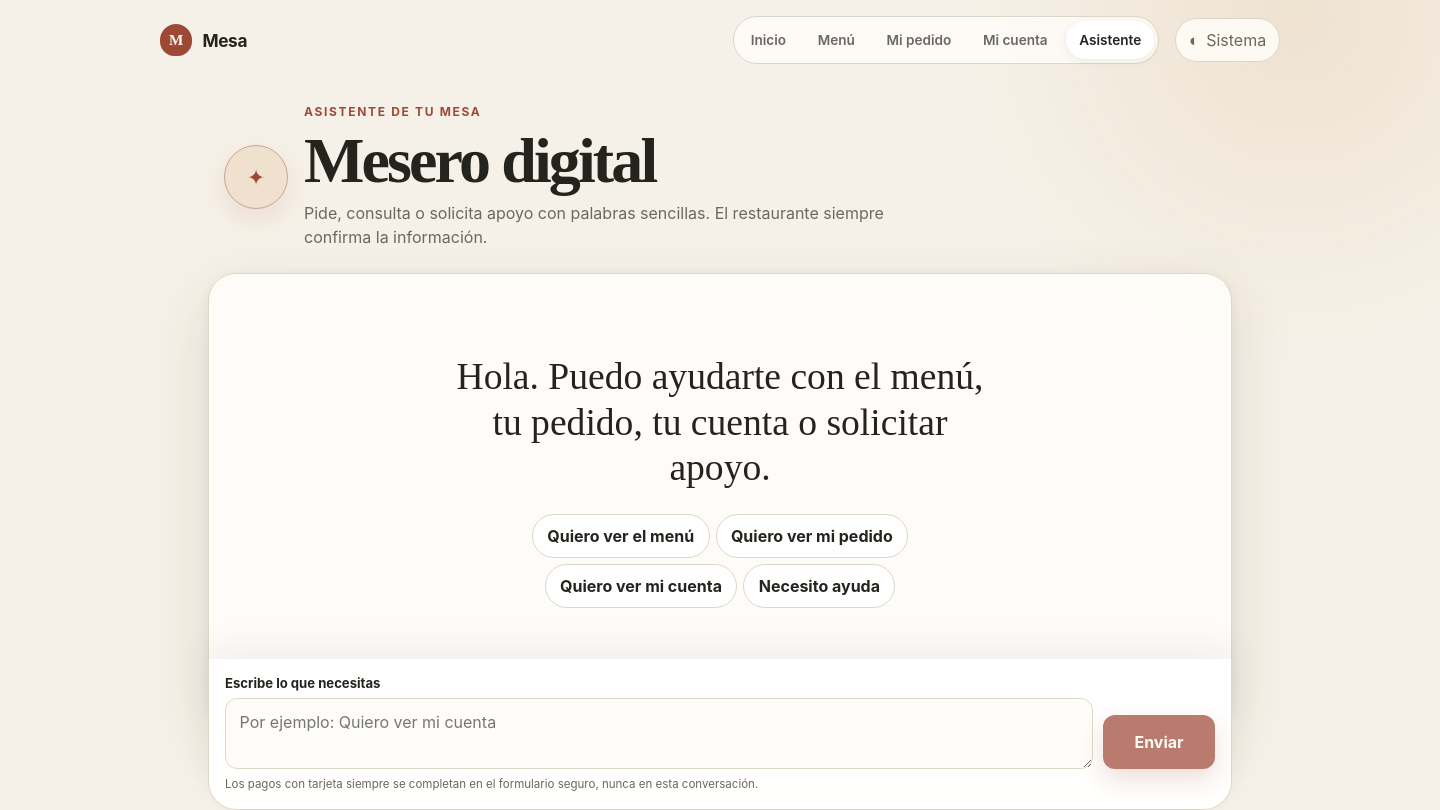
Test: Digital Waiter UI › submits natural language through C6A and renders an authoritative menu result
Check: the heading "Mesero digital" is shown, box [304,125,655,196]
Type "Quiero ver el menú" into the text box labelled "Escribe lo que necesitas".
click(659, 733); type("Quiero ver el menú")  # box [225,698,1093,769]
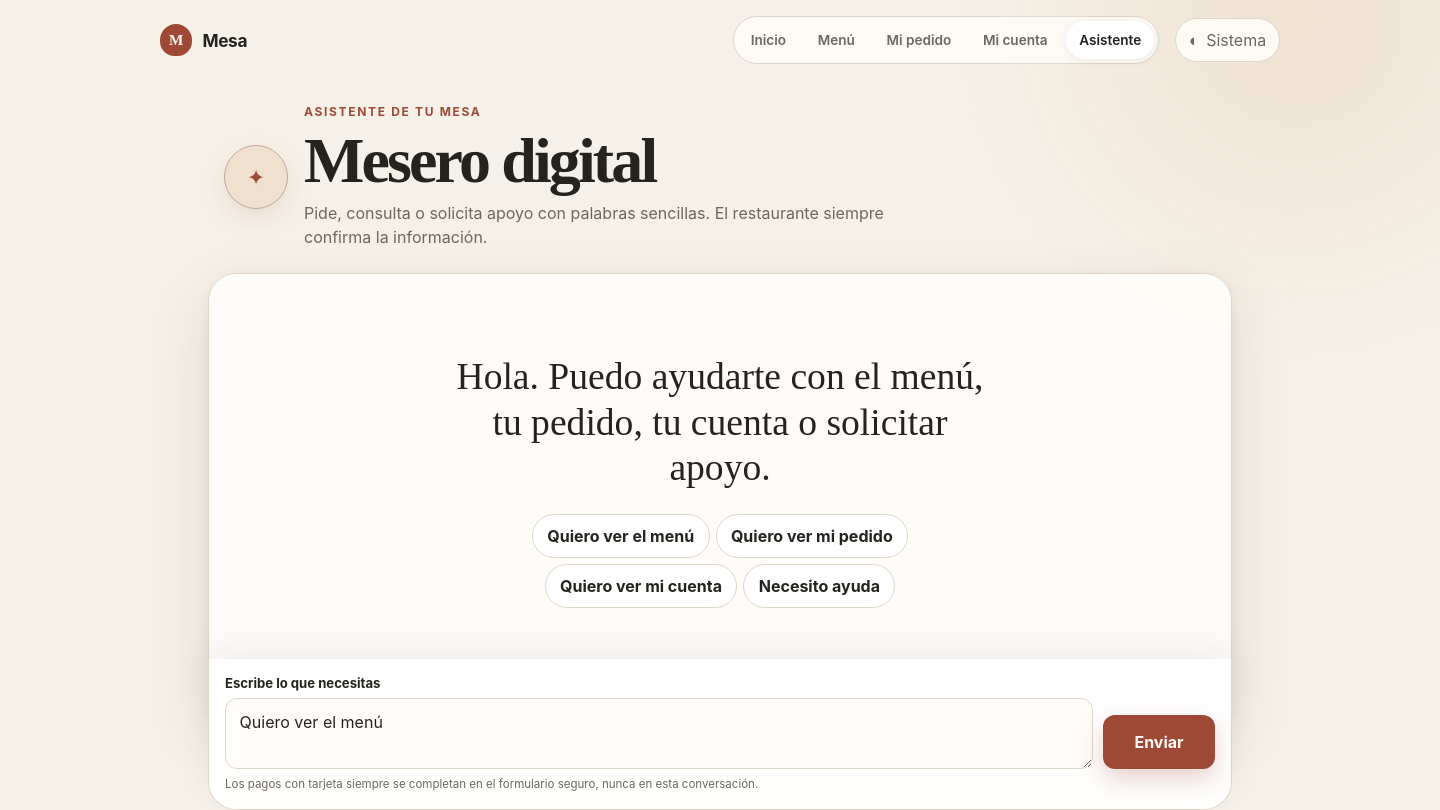
Click the button "Enviar".
click(1159, 742)  # box [1103,715,1215,769]
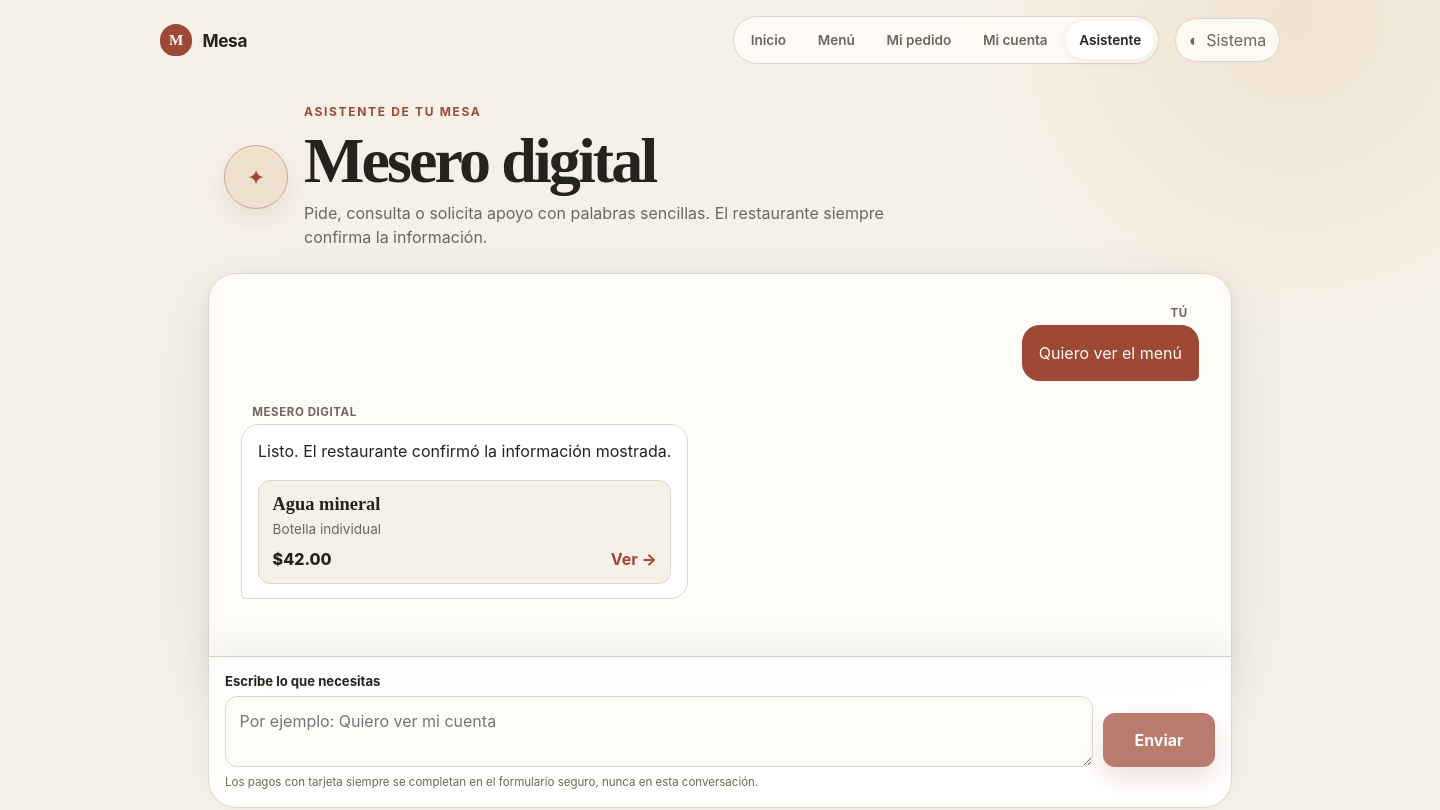
Check: the text "Agua mineral" is shown, box [273,494,380,514]
Check: the text "Tú" is shown, box [1170,306,1188,320]
Check: the text "Listo. El restaurante confirmó la información mostrada." is shown, box [258,439,671,464]
